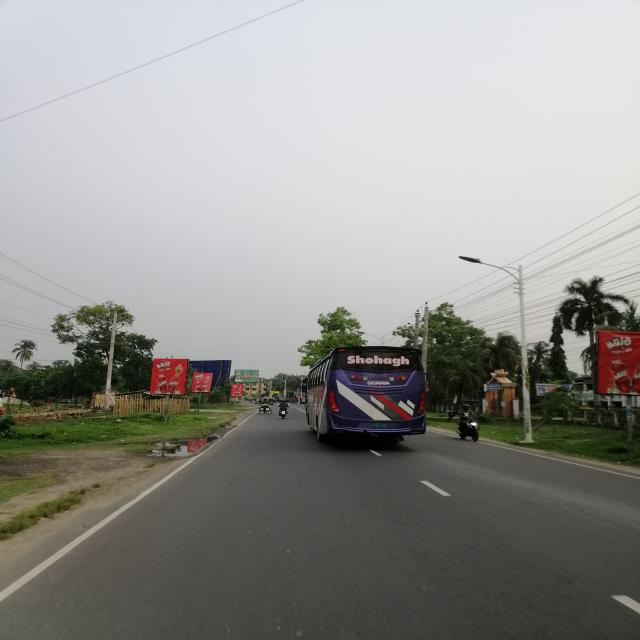Bus: (300, 346, 432, 446)
